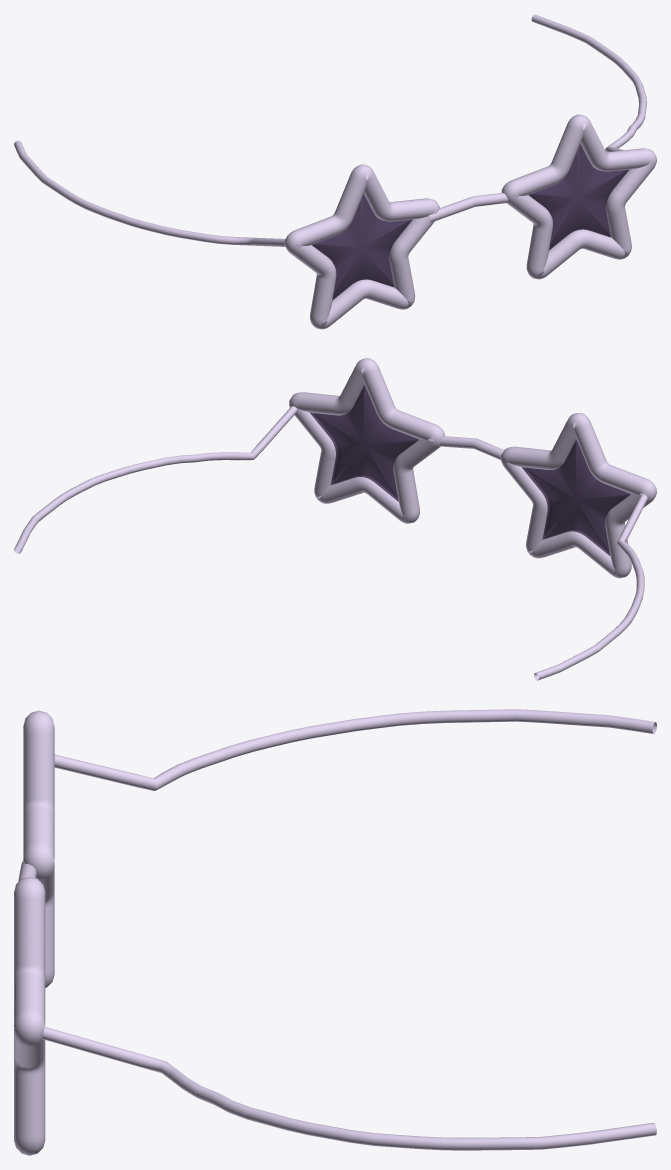
Rendered from restart_glasses_star_chick.glb.
3 views of the same model, one above another, from view 1: azimuth 30°, elevation 25°; view 2: azimuth 150°, elevation 25°; view 3: azimuth 270°, elevation 25° (orthographic). The views are drawn at different scales.
Visible parts, largest first — view 1: Montura estrella redondeada.007, Montura estrella redondeada.006, Lente estrella continua.006, Lente estrella continua.007, Patilla envolvente.006, Patilla envolvente.007, Puente nasal redondeado.003; view 2: Montura estrella redondeada.007, Montura estrella redondeada.006, Lente estrella continua.006, Lente estrella continua.007, Patilla envolvente.007, Patilla envolvente.006, Puente nasal redondeado.003; view 3: Montura estrella redondeada.007, Patilla envolvente.007, Patilla envolvente.006, Montura estrella redondeada.006.
Boxes of the visible parts, x1,y1,x2,y2 form: Montura estrella redondeada.007: (501,114,656,279); Montura estrella redondeada.006: (285,164,439,329); Lente estrella continua.006: (312,194,412,300); Lente estrella continua.007: (529,144,629,250); Patilla envolvente.006: (14,140,285,246); Patilla envolvente.007: (531,14,646,152); Puente nasal redondeado.003: (429,193,508,222); Montura estrella redondeada.007: (289,358,444,523); Montura estrella redondeada.006: (501,413,656,578); Lente estrella continua.006: (521,439,630,555); Lente estrella continua.007: (310,384,419,501); Patilla envolvente.007: (14,406,296,553); Patilla envolvente.006: (534,494,647,680); Puente nasal redondeado.003: (439,436,504,459); Montura estrella redondeada.007: (14,876,45,1155); Patilla envolvente.007: (42,1027,656,1150); Patilla envolvente.006: (54,709,656,790); Montura estrella redondeada.006: (23,710,54,987).
Size of the model in its own units: 0.7218 by 0.1891 by 0.4518.
